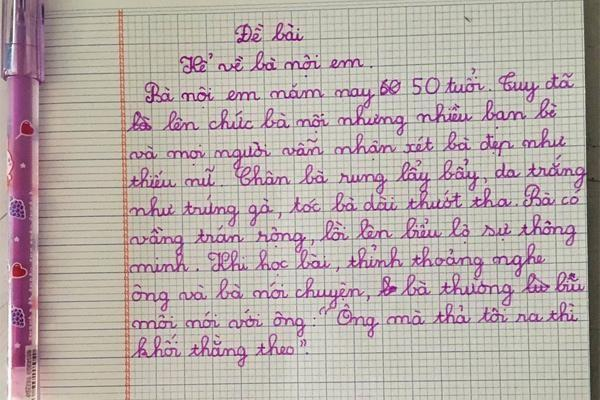text: (128, 182, 581, 229), (129, 269, 587, 314), (126, 152, 588, 196), (129, 212, 578, 257), (128, 126, 567, 170), (125, 95, 559, 138), (131, 300, 579, 340), (142, 69, 576, 110), (129, 242, 546, 280), (129, 331, 309, 369), (179, 50, 374, 79), (234, 20, 305, 45)
